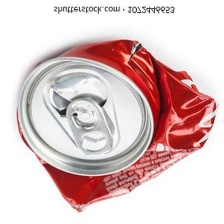can: (12, 36, 220, 215)
